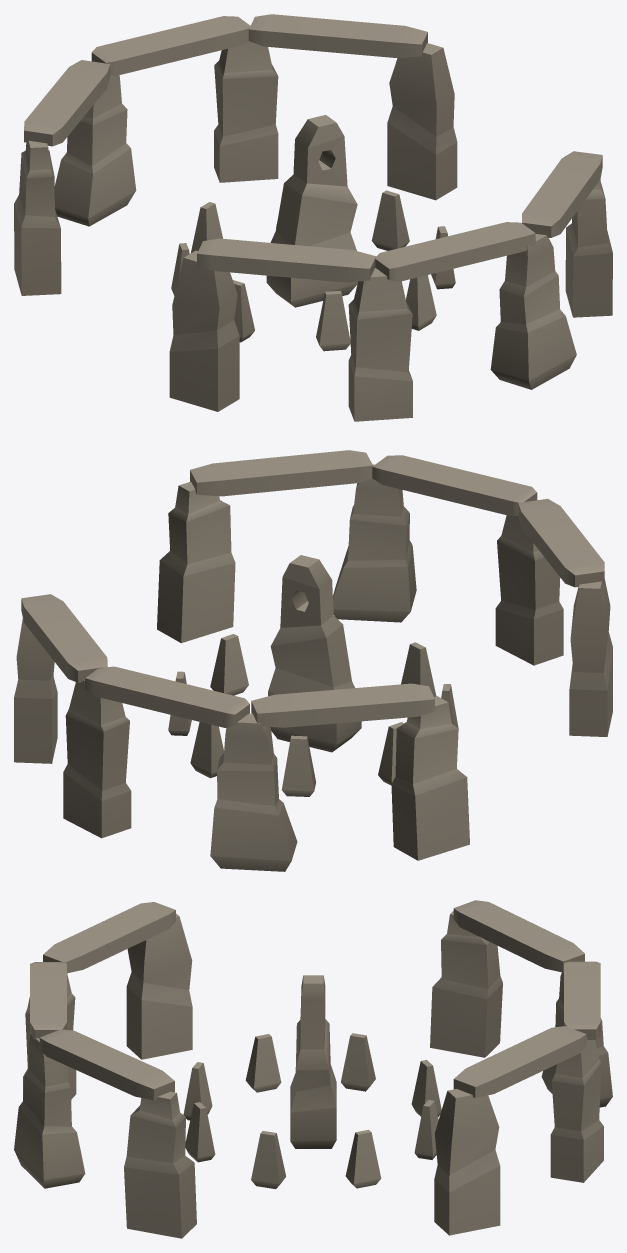
Rendered from ContactMeStone.gltf.
3 renders of one model, top to bottom at view 1: azimuth 30°, elevation 25°; view 2: azimuth 150°, elevation 25°; view 3: azimuth 270°, elevation 25°, orthographic. The views are drawn at different scales.
Visible parts, largest first — view 1: SF_Env_StoneCircle_01; view 2: SF_Env_StoneCircle_01; view 3: SF_Env_StoneCircle_01.
Boxes of the visible parts, x1,y1,x2,y2 form: SF_Env_StoneCircle_01: [14, 14, 612, 421]; SF_Env_StoneCircle_01: [14, 450, 612, 871]; SF_Env_StoneCircle_01: [14, 900, 612, 1238].
Bounding box in the file's own units: 0.147 × 0.0539 × 0.181.
1 material, 1 textured.
